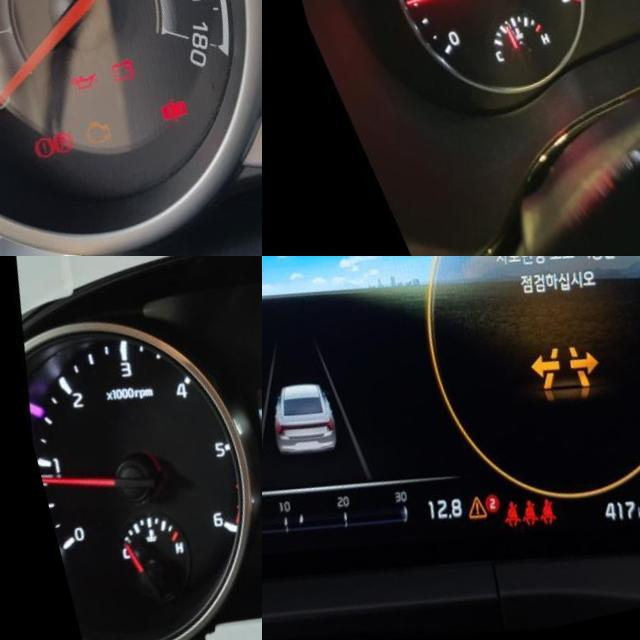Central Warning lamp: (437, 504, 463, 533)
Doors: (134, 107, 164, 136)
